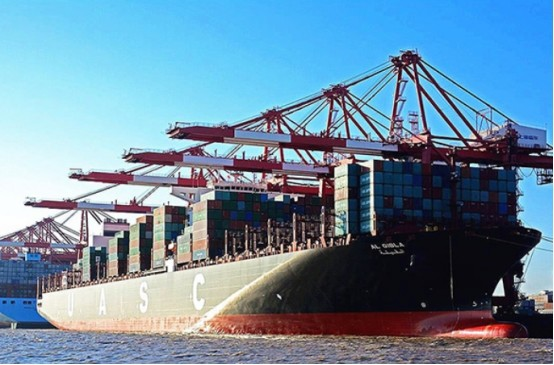Cargoship: (33, 124, 554, 337)
